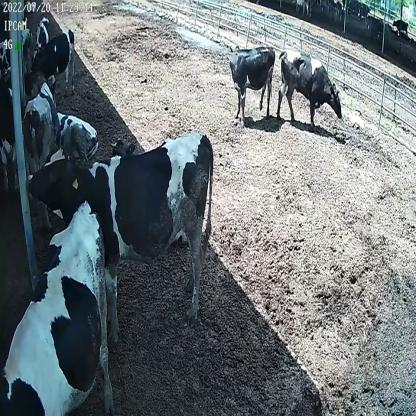cow: (27, 131, 217, 341), (0, 196, 116, 411), (277, 48, 343, 130), (227, 41, 277, 118), (26, 29, 76, 94), (22, 79, 58, 168), (35, 12, 50, 48)
